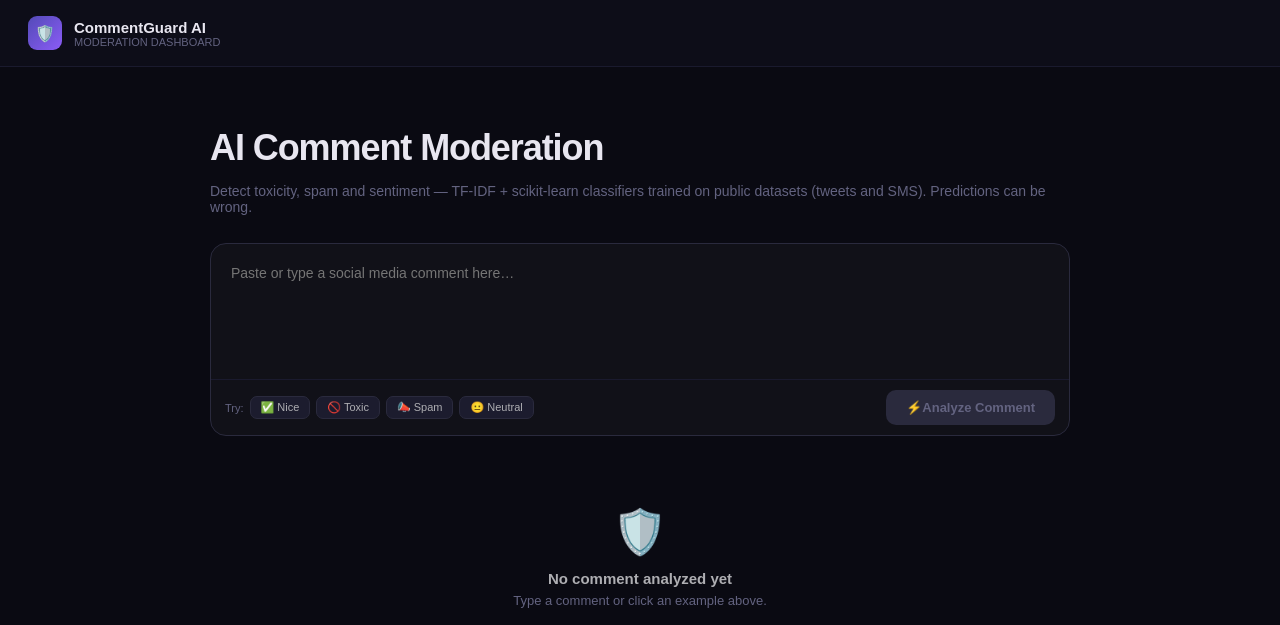
Test: shows the server message when a comment has no analysable text
This screenshot has width=1280, height=625.
In the text box with placeholder "Paste or type a social media comment here…": x=640, y=310 [211,244,1069,375], type "!!!"
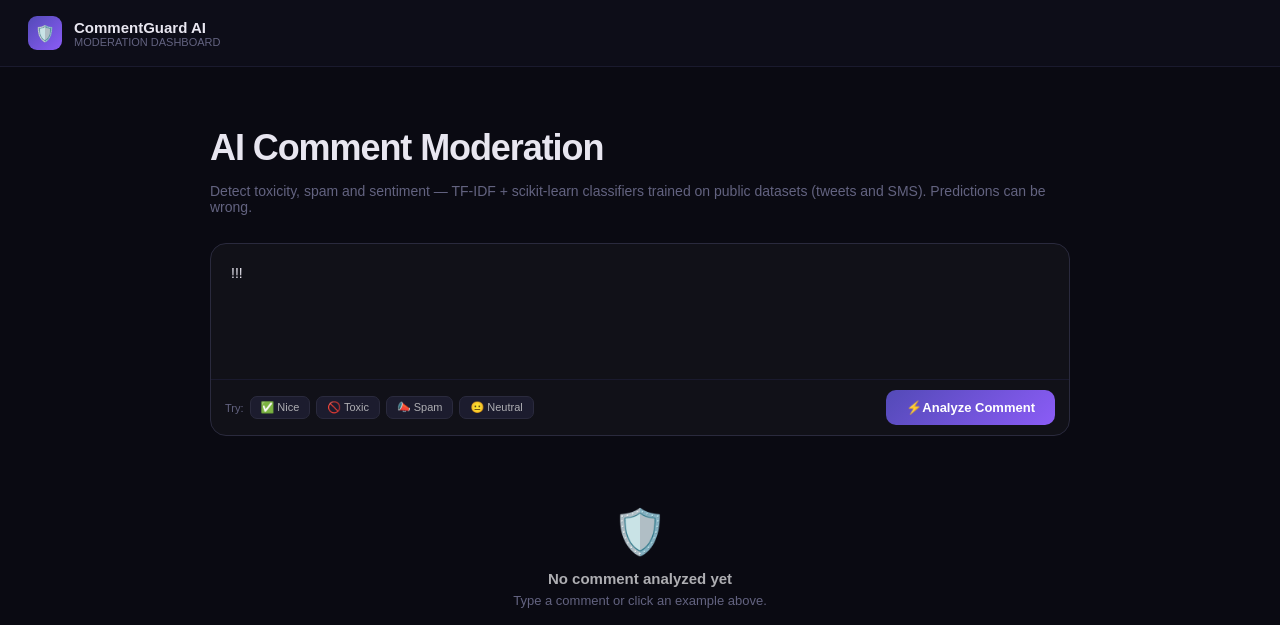
Click the button "⚡Analyze Comment": x=971, y=408 [886,390,1055,425]
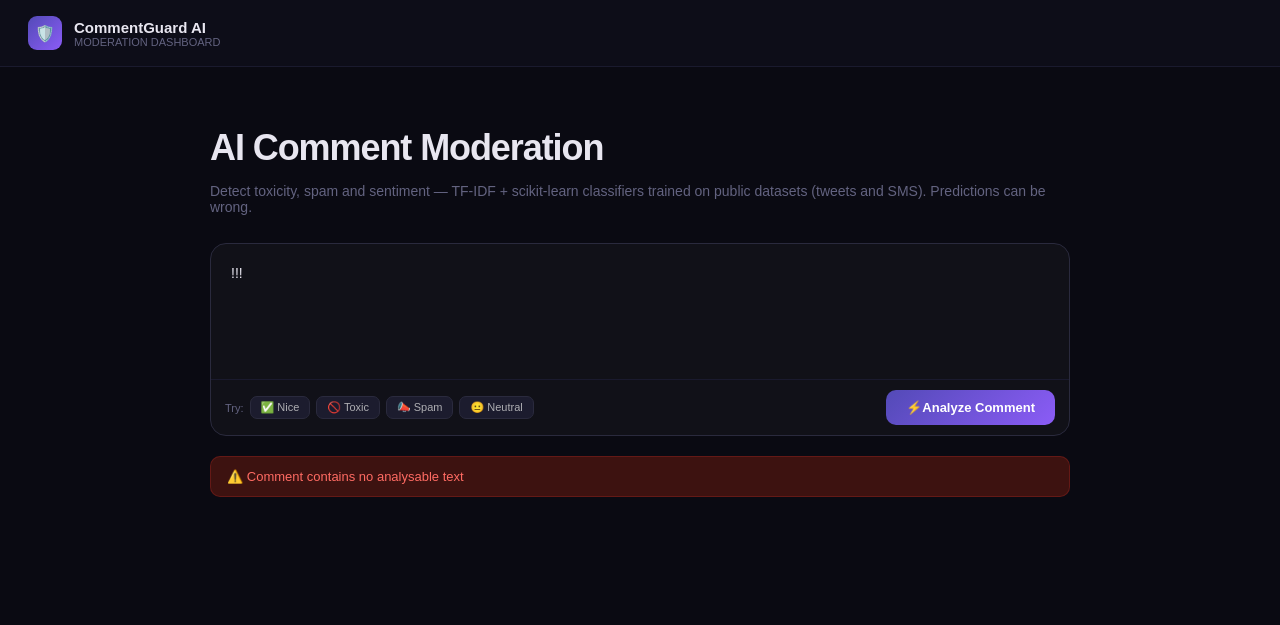
Check: the text "⚠️ Comment contains no analysable text" is shown, box [210,456,1070,497]
